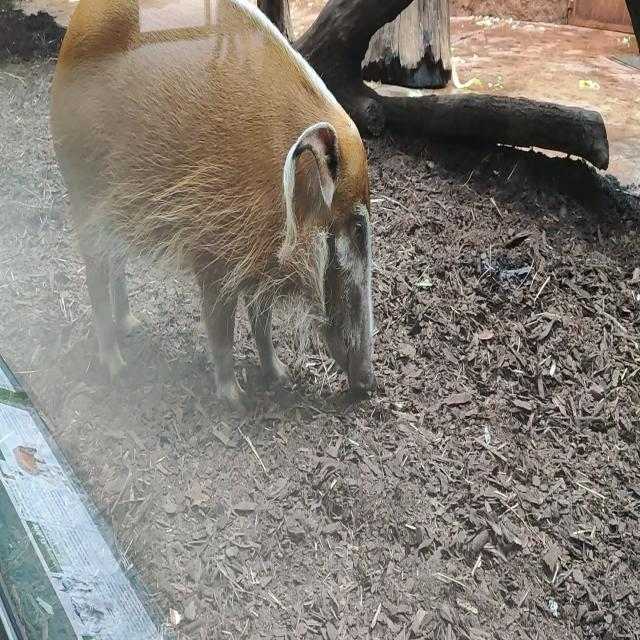boar: (51, 0, 373, 411)
